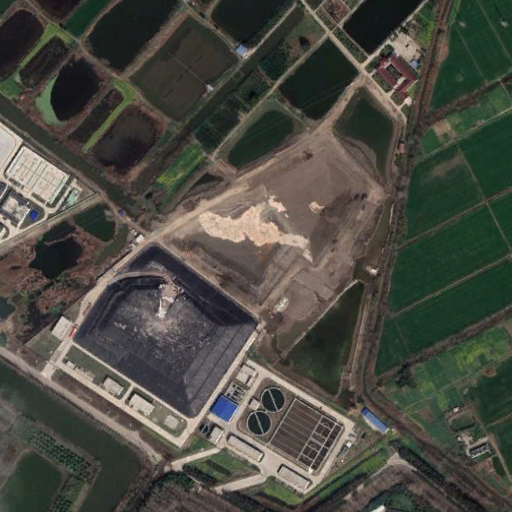lf: (69, 131, 384, 416)
